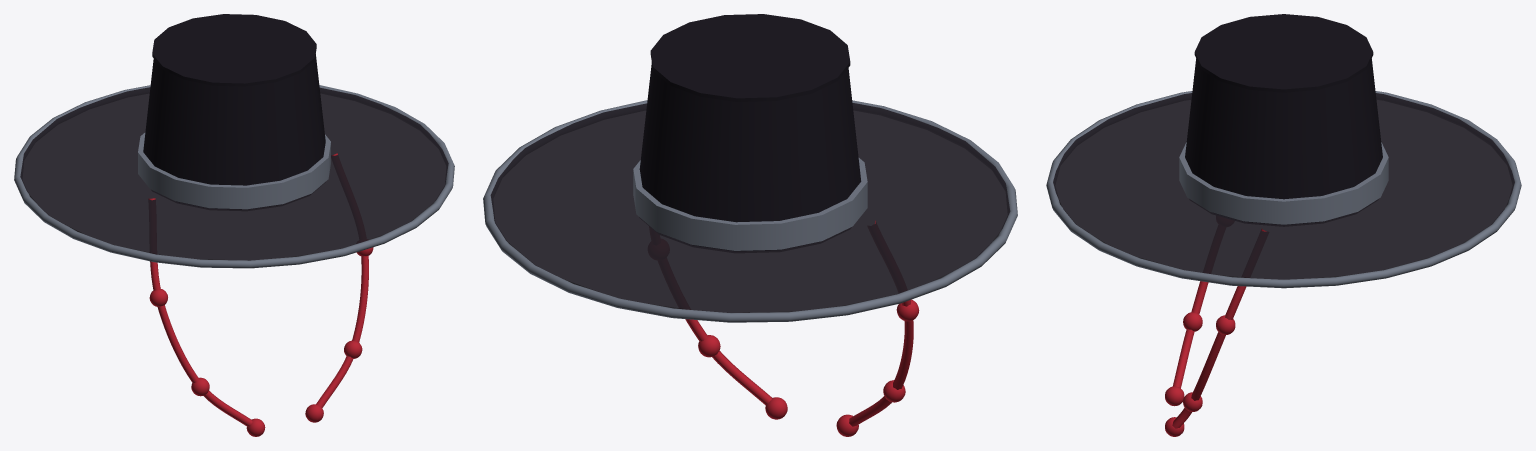
The model's file is hat_eqko0.glb.
The picture shows the model from 3 angles, left to right: view 1: azimuth 30°, elevation 25°; view 2: azimuth 150°, elevation 25°; view 3: azimuth 270°, elevation 25°; orthographic projection. The views are drawn at different scales.
Bounding box in the file's own units: 3.78 × 3.24 × 3.78.
